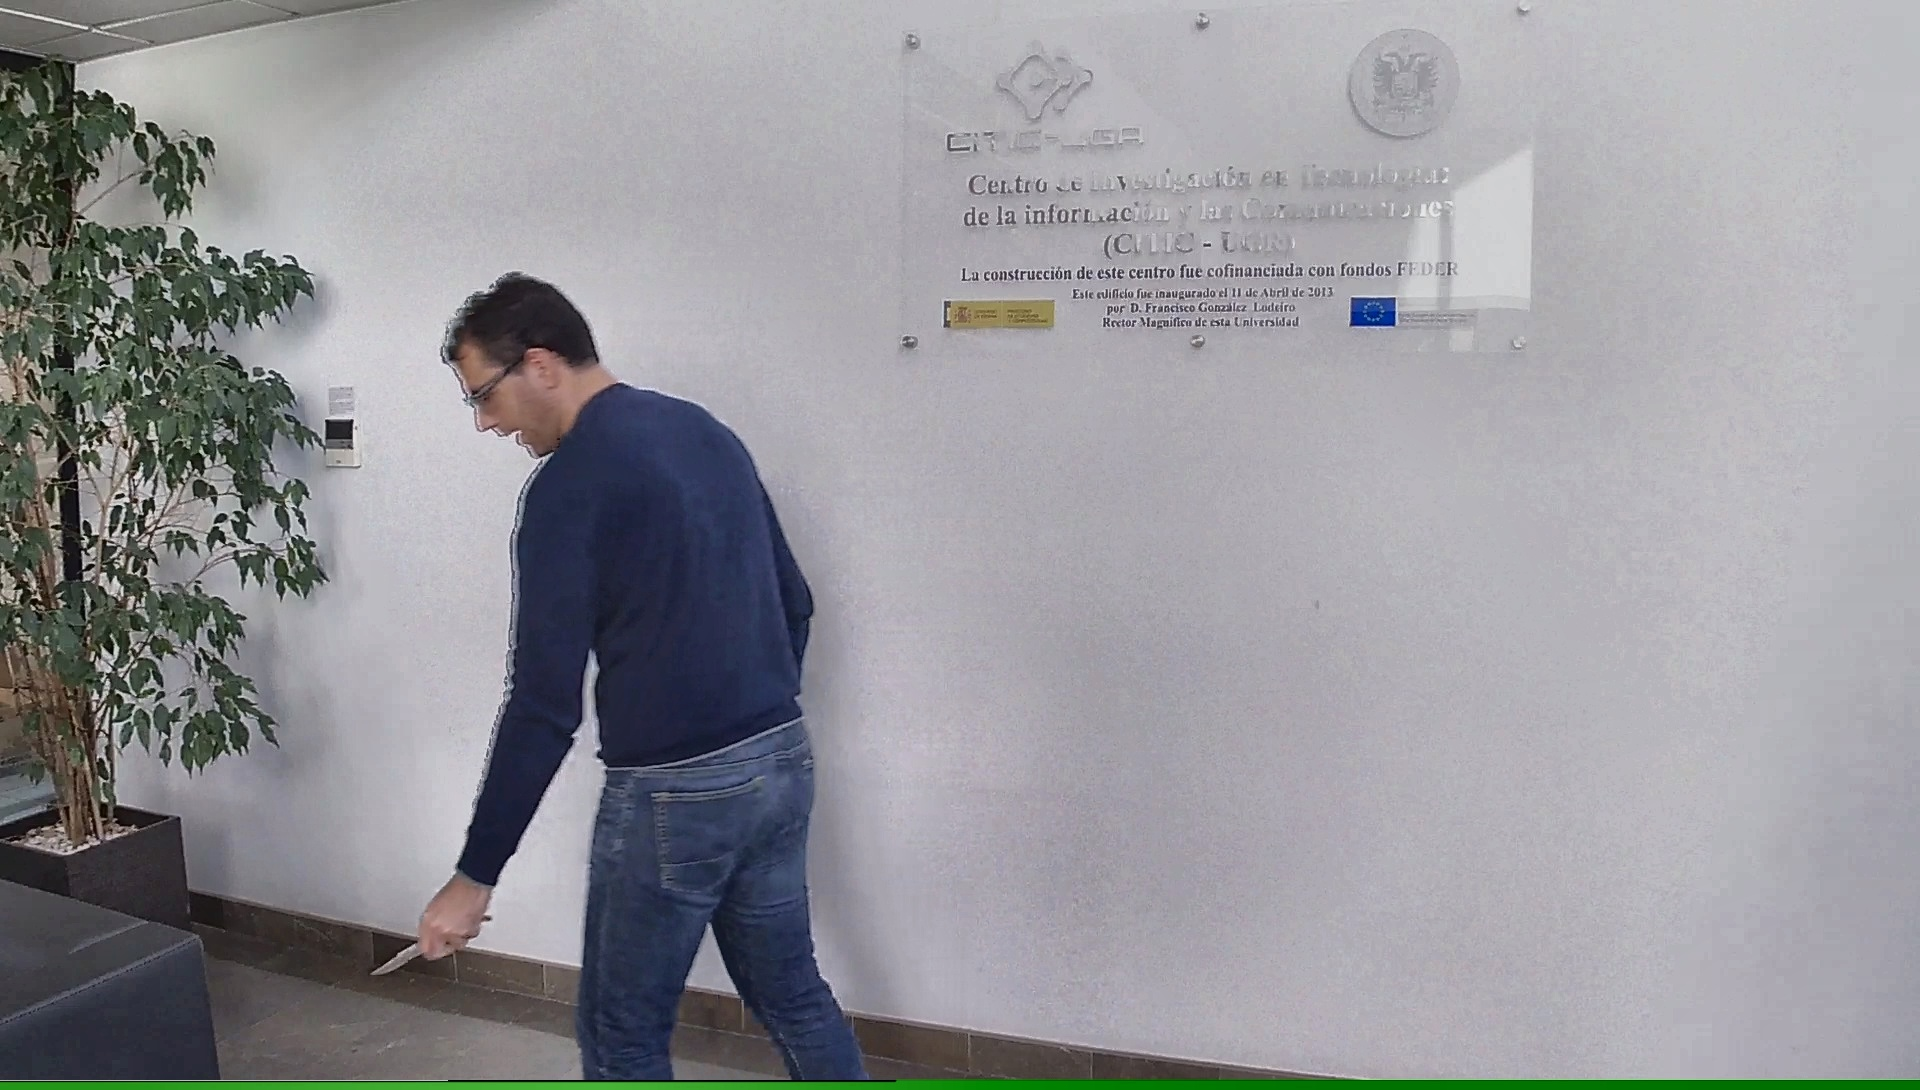knife: (359, 908, 500, 985)
